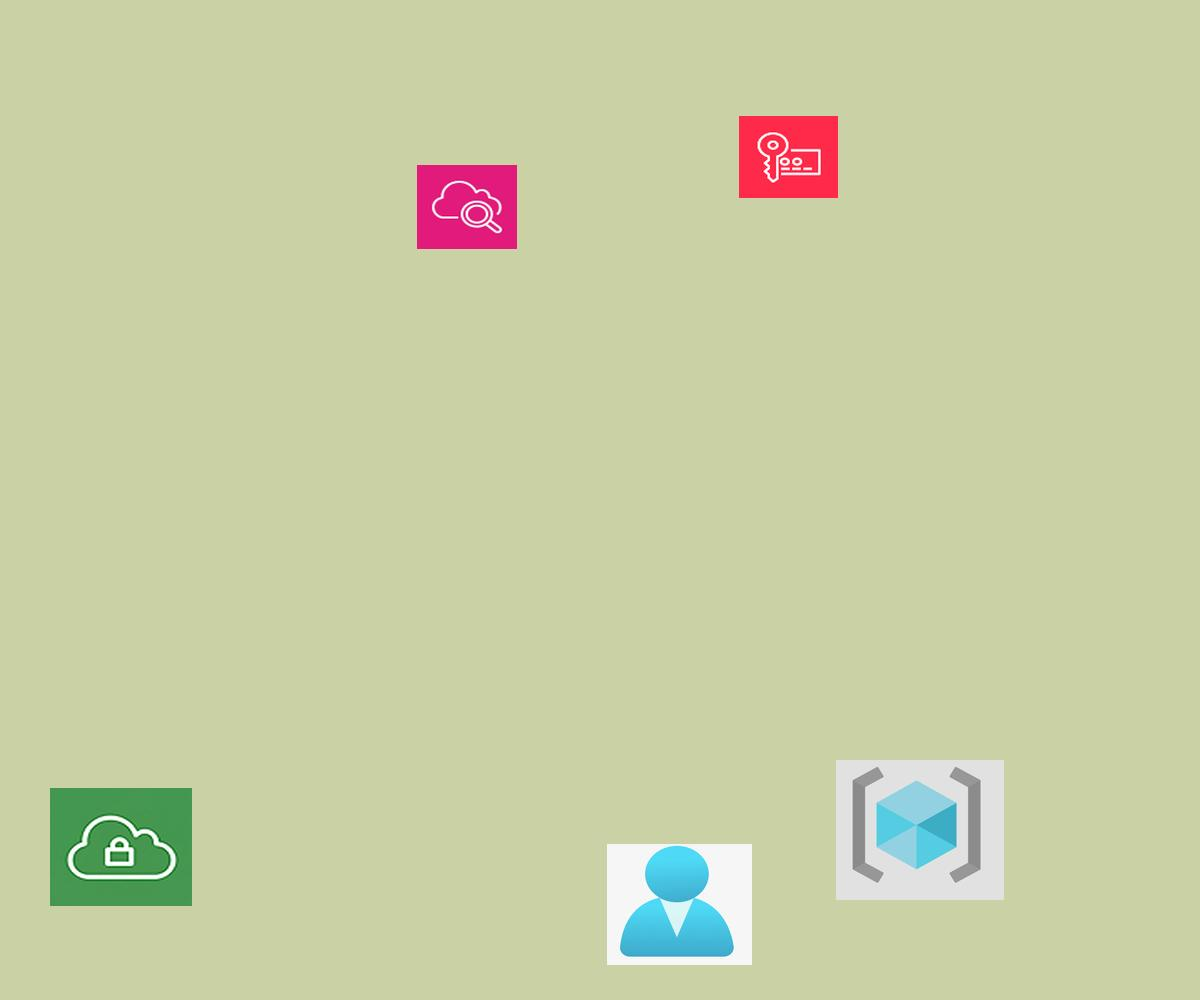AWS-CloudWatch: (417, 165, 517, 249)
AWS-Key-Management-Service: (739, 116, 838, 198)
AWS-Private_vpc: (50, 788, 192, 906)
Azure_resource_group: (836, 760, 1004, 900)
Azure_users: (607, 844, 752, 965)
